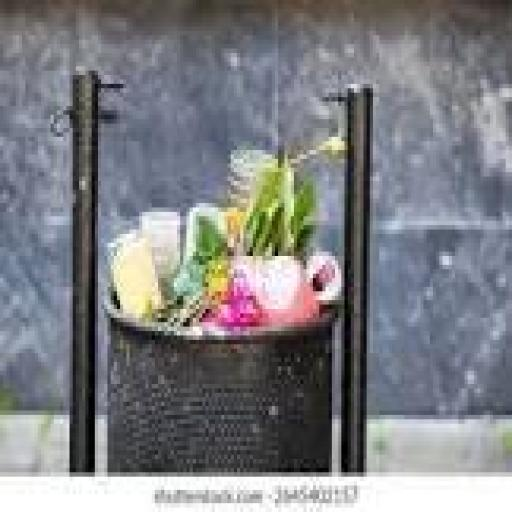poubelle_pleine: (99, 140, 356, 490)
